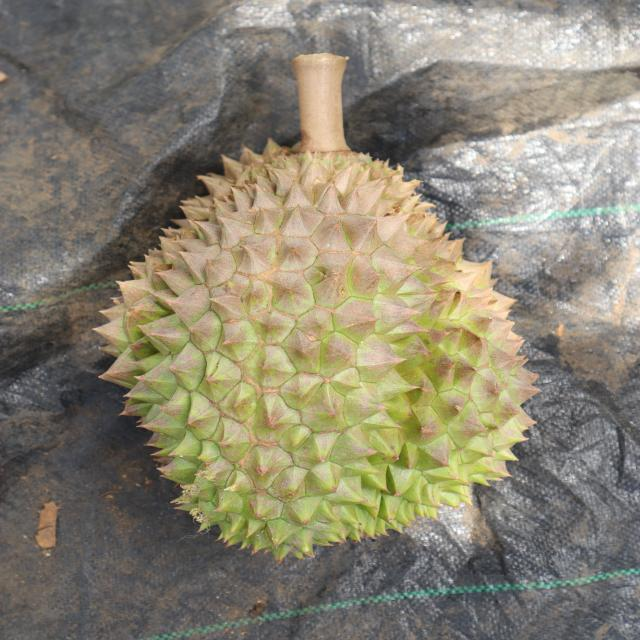mature: (98, 132, 541, 564)
